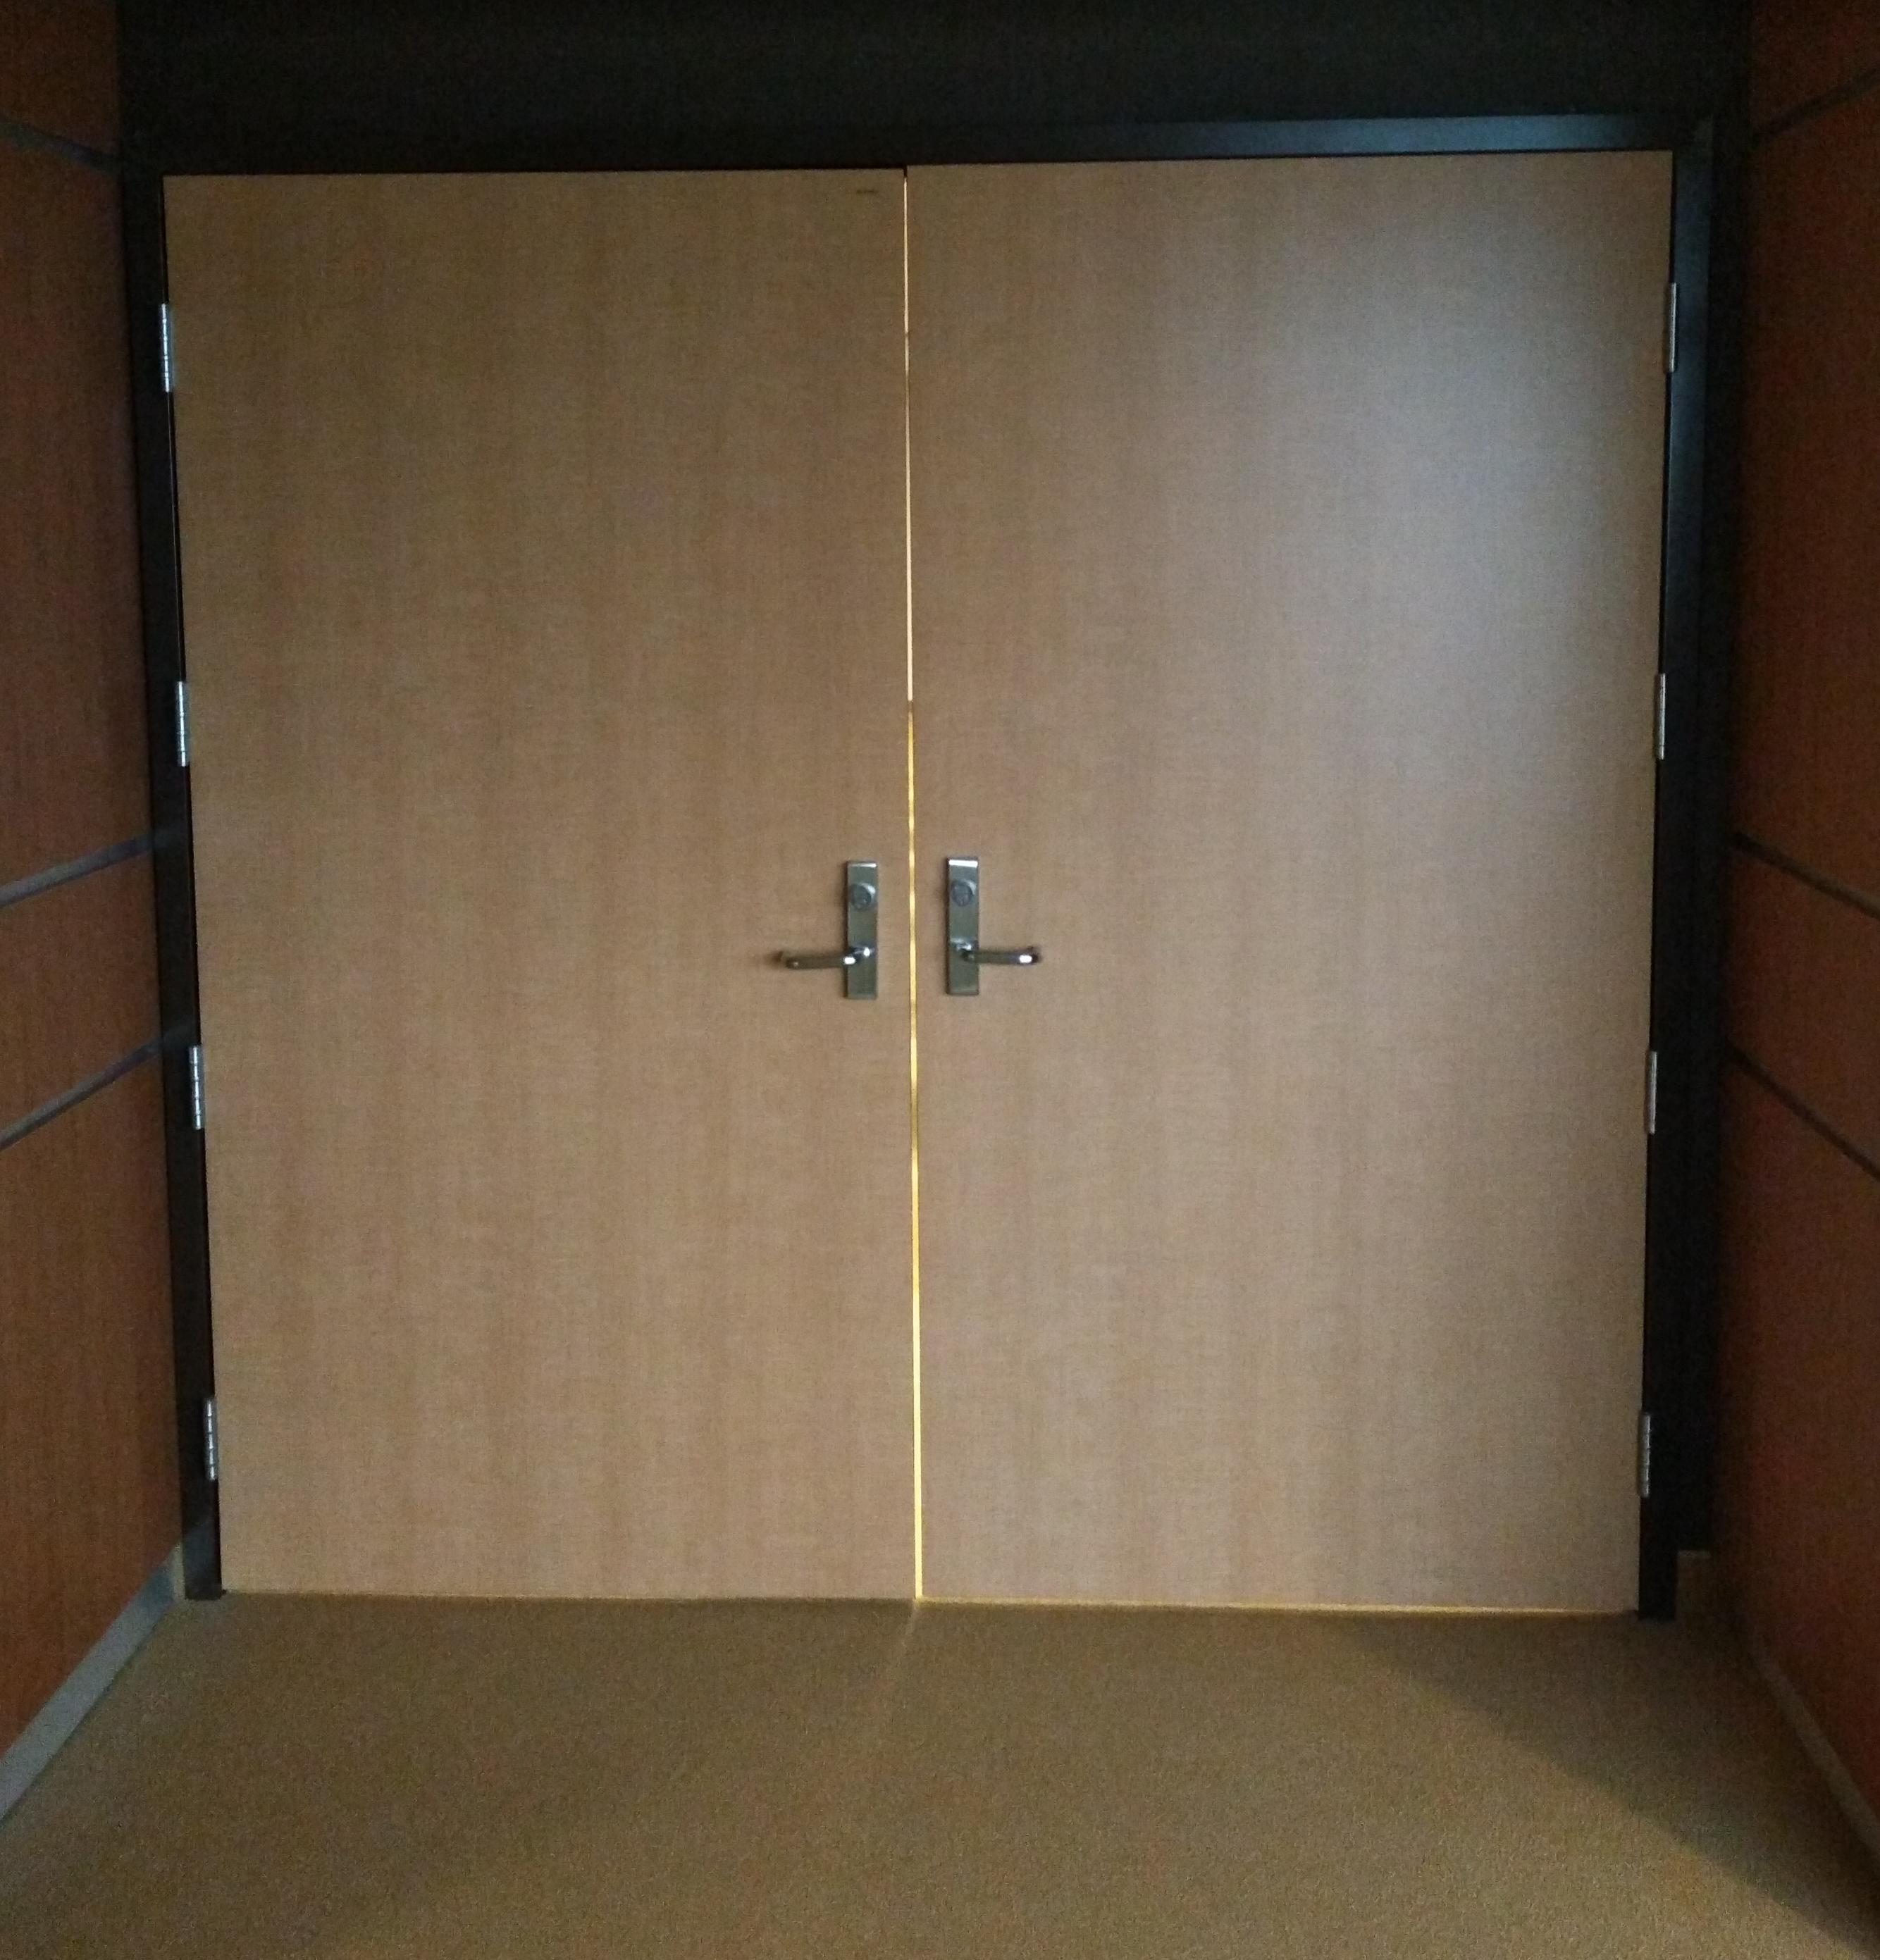door: (147, 140, 1652, 1620)
